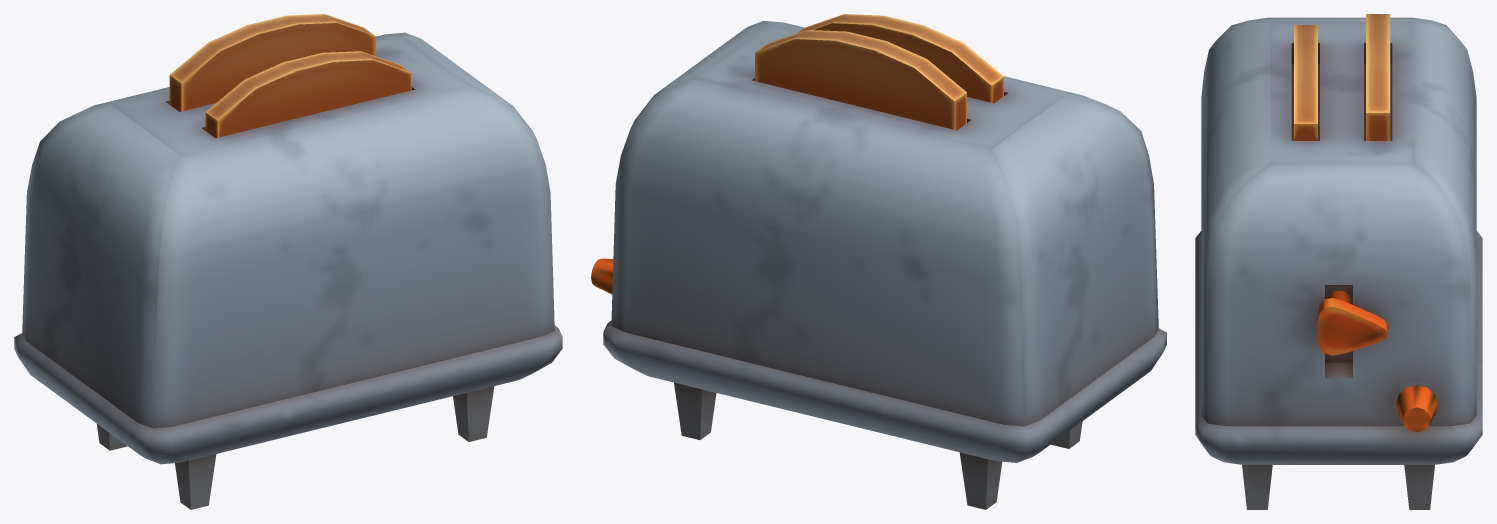
The model's file is CafeToaster01.FBX.
The picture shows the model from 3 angles, left to right: view 1: azimuth 30°, elevation 25°; view 2: azimuth 150°, elevation 25°; view 3: azimuth 270°, elevation 25°; orthographic projection. The views are drawn at different scales.
Parts seen in each view (by area): view 1: CafeToaster01; view 2: CafeToaster01; view 3: CafeToaster01.
Part boxes in pixels (<box>): CafeToaster01: <box>14,14,562,509</box>; CafeToaster01: <box>591,14,1166,509</box>; CafeToaster01: <box>1195,14,1482,509</box>.
Size of what is drawn, in the model's own units: 0.3219 by 0.2733 by 0.1766.
